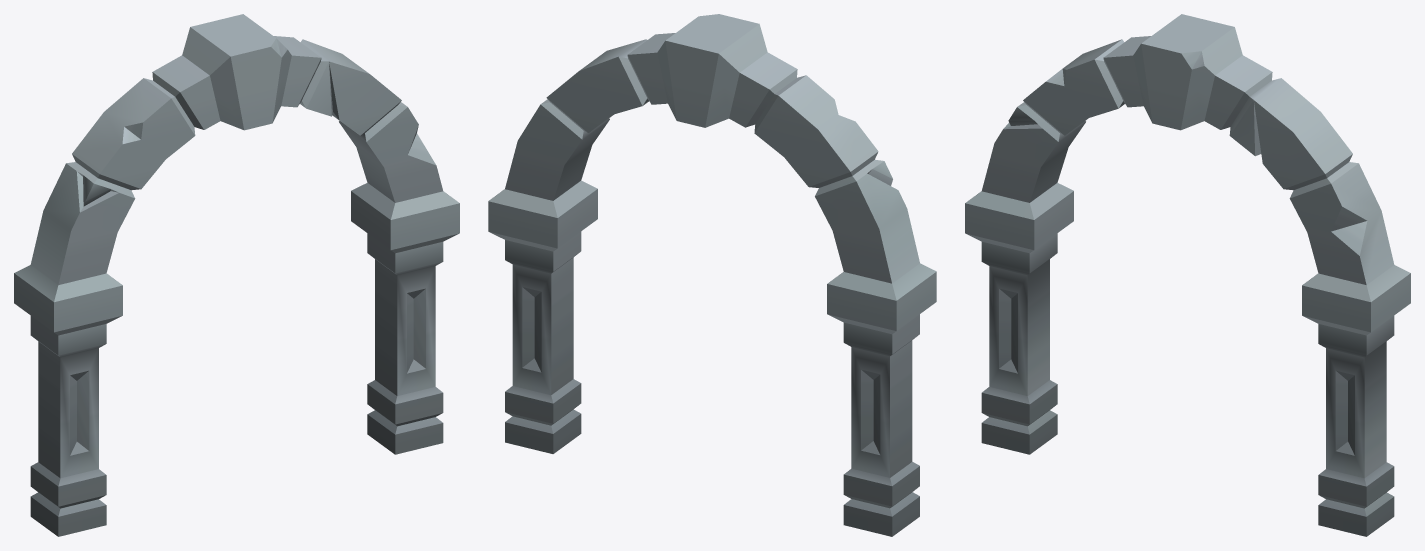
Rendered from arch.glb.
3 views of the same model, side by side, from view 1: azimuth 30°, elevation 25°; view 2: azimuth 150°, elevation 25°; view 3: azimuth 330°, elevation 25° (orthographic).
Visible parts, largest first — view 1: arch; view 2: arch; view 3: arch.
Boxes of the visible parts, x1=… form: arch: x1=14, y1=14, x2=459, y2=536; arch: x1=488, y1=14, x2=936, y2=536; arch: x1=965, y1=14, x2=1410, y2=536.
Bounding box in the file's own units: 4.22 × 4.41 × 0.77.
Materials: 1 (1 with a texture image).
